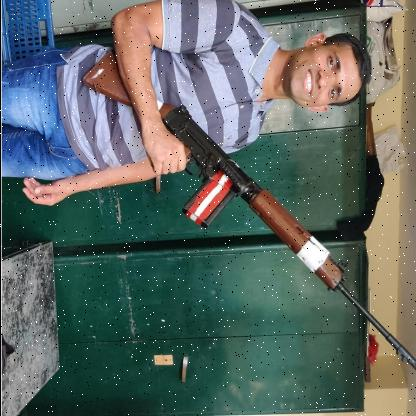rifle: (78, 49, 415, 369)
